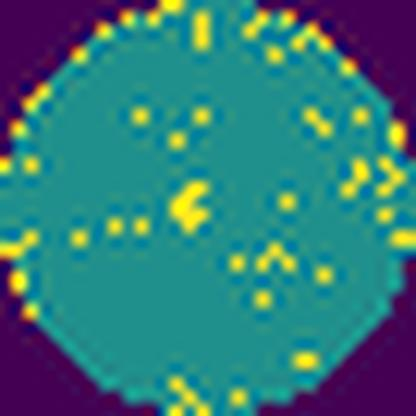Center: (163, 170, 211, 242)
